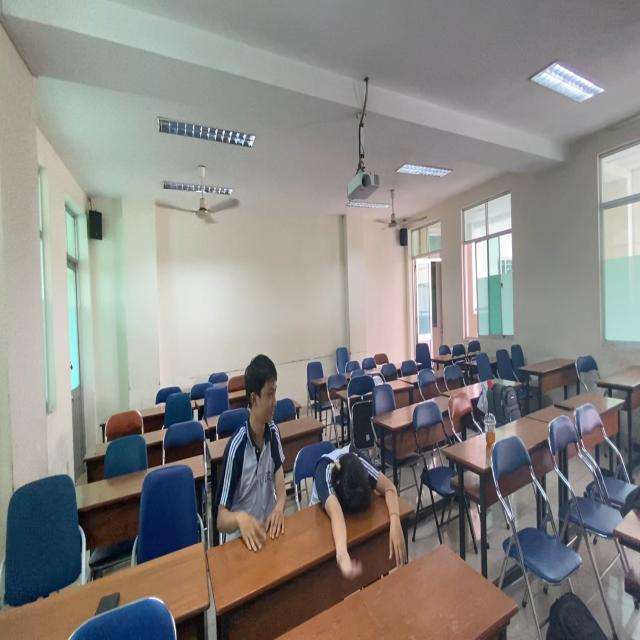sleep: (310, 434, 407, 569)
